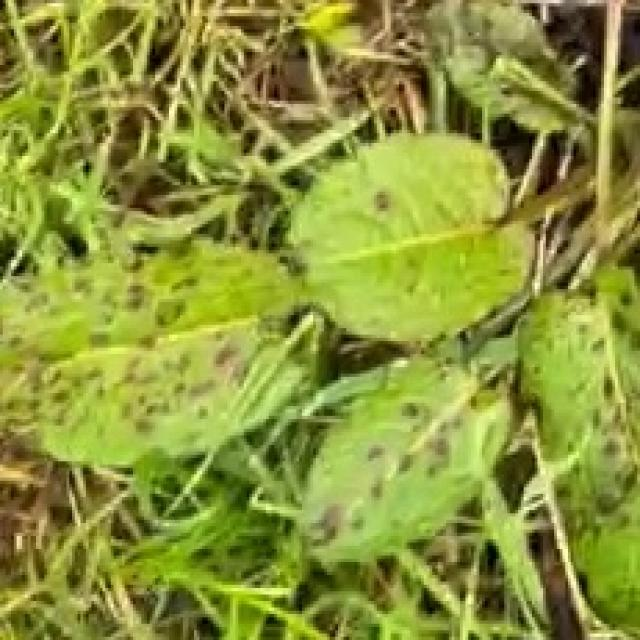organic waste: (0, 146, 640, 618)
